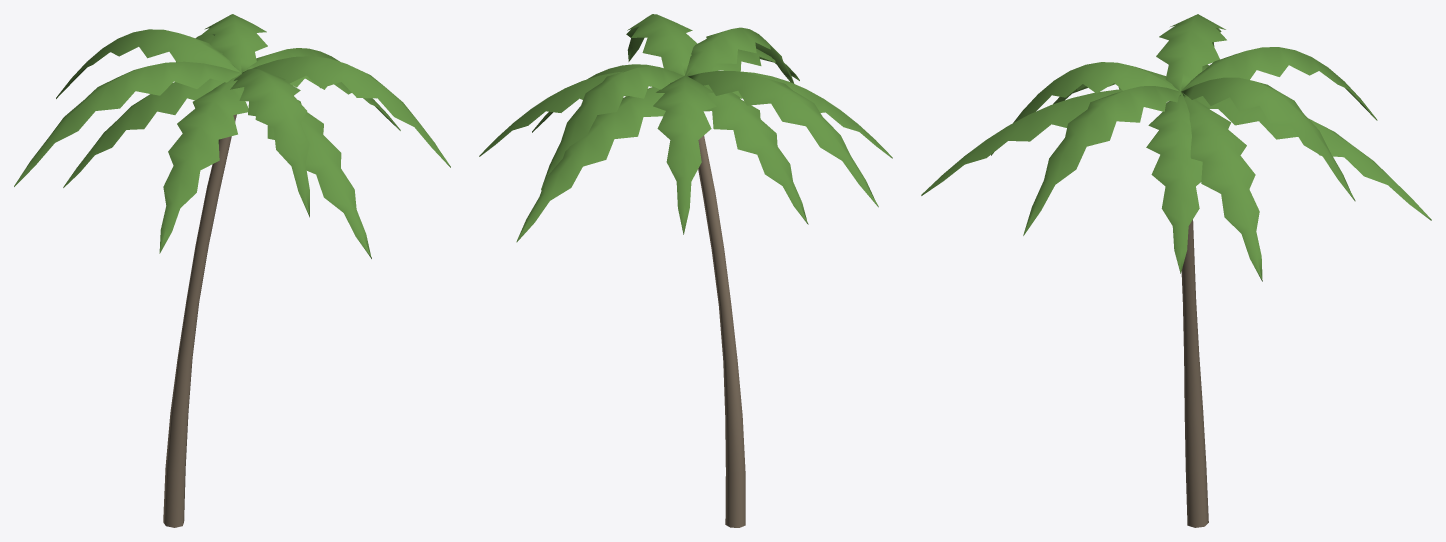
The model's file is palm.glb.
3 views of the same model, side by side, from view 1: azimuth 30°, elevation 25°; view 2: azimuth 150°, elevation 25°; view 3: azimuth 270°, elevation 25° (orthographic). The views are drawn at different scales.
Parts seen in each view (by area): view 1: Palm; view 2: Palm; view 3: Palm.
Part boxes in pixels (x1,y1,x2,y2): Palm: (14,14,450,527); Palm: (479,14,892,527); Palm: (921,14,1431,527).
Size of the model in its own units: 8.3 by 9.54 by 9.05.
